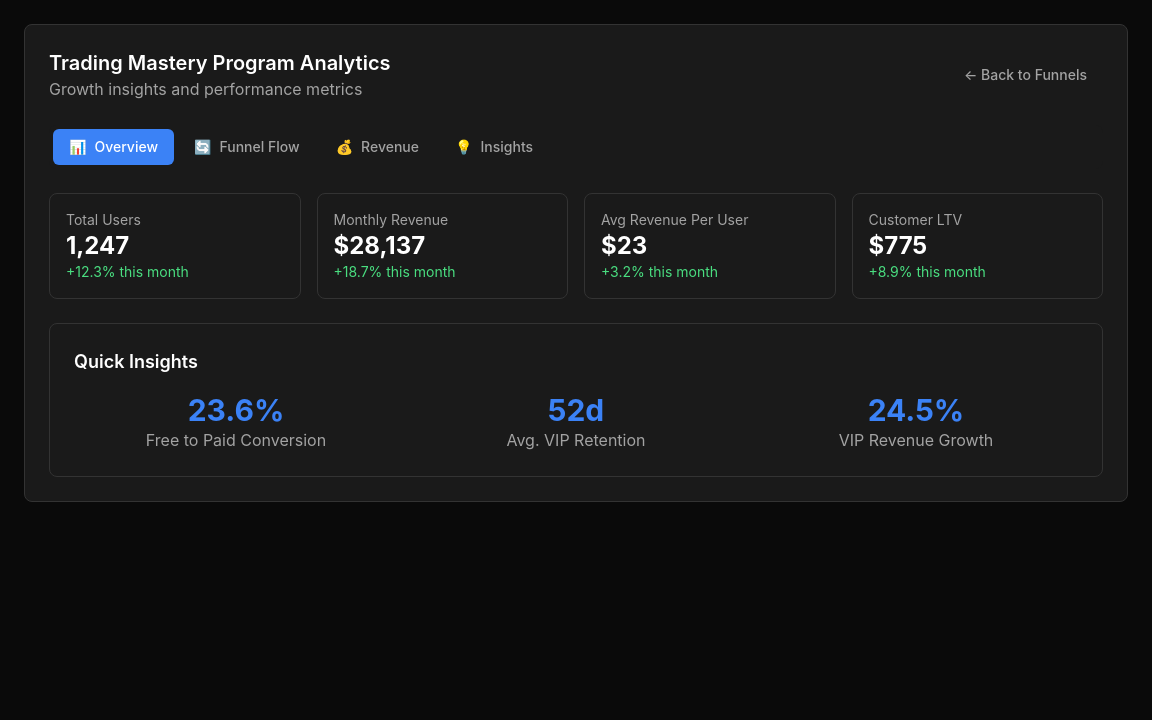
Test case: AnalyticsDashboard Component › switches to revenue tab when clicked
What coordinates should you click on to do the following:
click the text "Revenue"
I would click on:
 (390, 147)
Its box is [361,137,419,157].
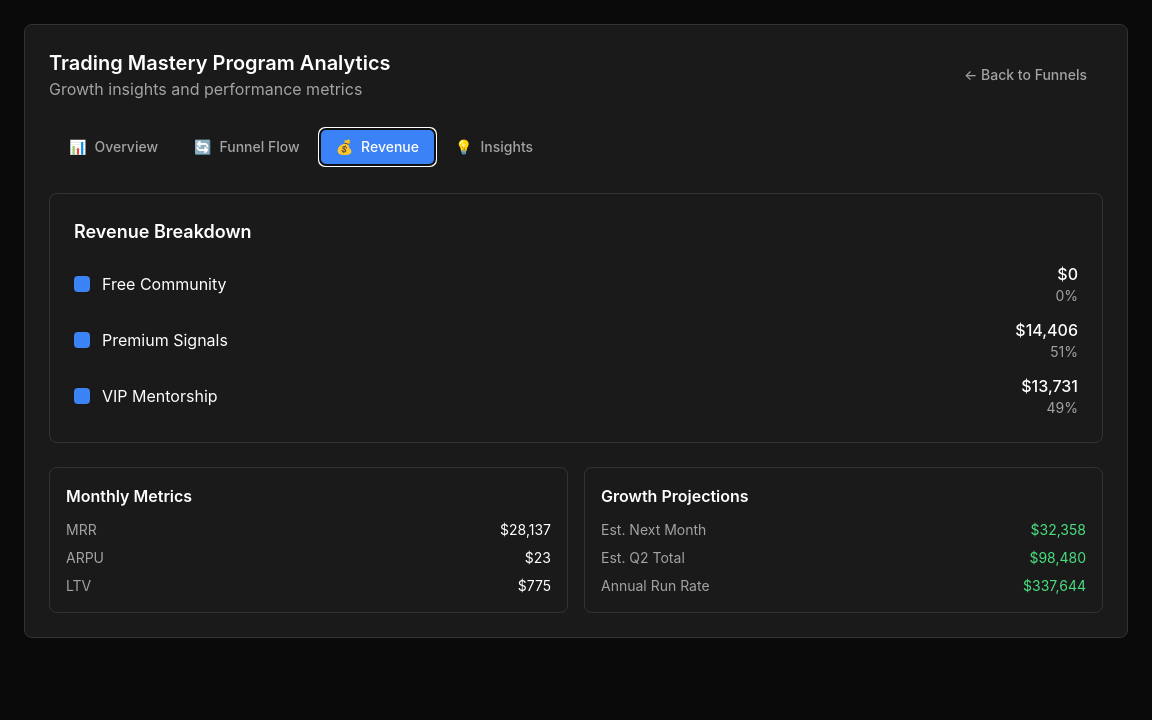
Check: the heading "Revenue Breakdown" is shown, box [74,221,252,242]
Check: the heading "Monthly Metrics" is shown, box [66,486,192,506]
Check: the heading "Growth Projections" is shown, box [601,486,749,506]
